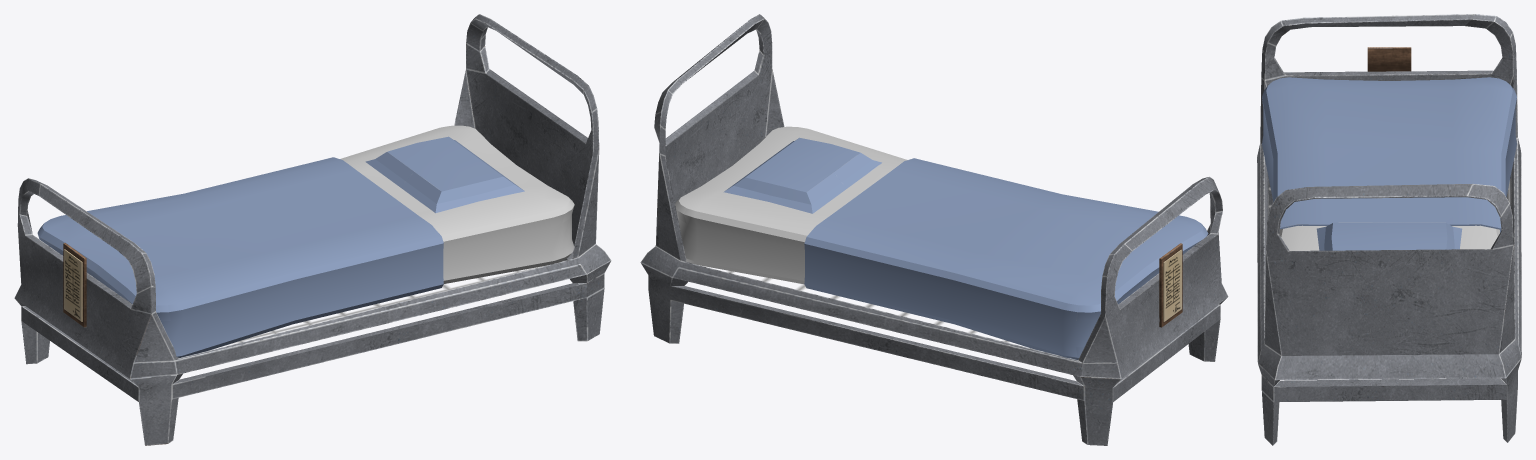
Rendered from hospital-bed-sketchfab-ccby.glb.
3 renders of one model, left to right at view 1: azimuth 30°, elevation 25°; view 2: azimuth 150°, elevation 25°; view 3: azimuth 270°, elevation 25°, orthographic. The views are drawn at different scales.
Visible parts, largest first — view 1: Mattress, BedFrame; view 2: Mattress, BedFrame; view 3: BedFrame, Mattress.
Part boxes in pixels (box(x1,y1,x2,y2)): Mattress: box(37, 125, 574, 357); BedFrame: box(14, 14, 611, 445); Mattress: box(675, 126, 1208, 359); BedFrame: box(640, 14, 1228, 445); BedFrame: box(1257, 14, 1521, 445); Mattress: box(1262, 77, 1516, 250).
Bounding box in the file's own units: 2.15 × 1.05 × 0.98.
Materials: 2 (2 with a texture image).
